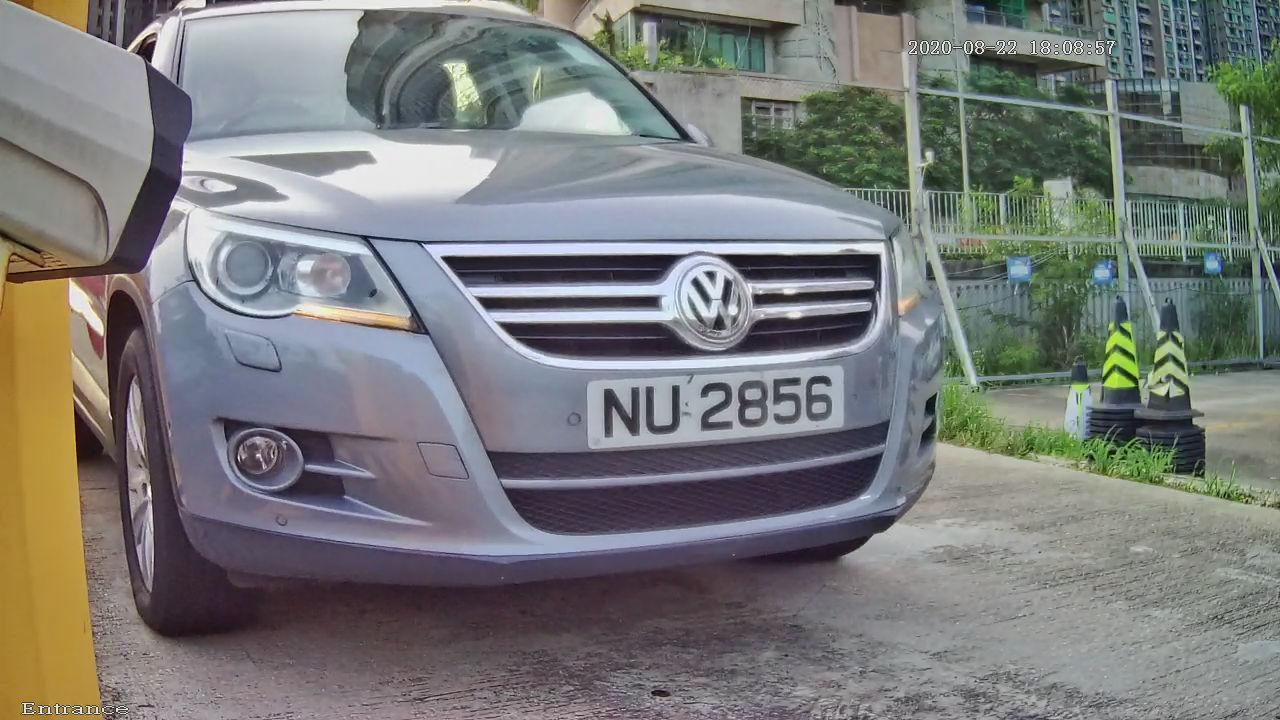Car: (63, 10, 995, 640)
License Plate: (537, 330, 878, 477)
